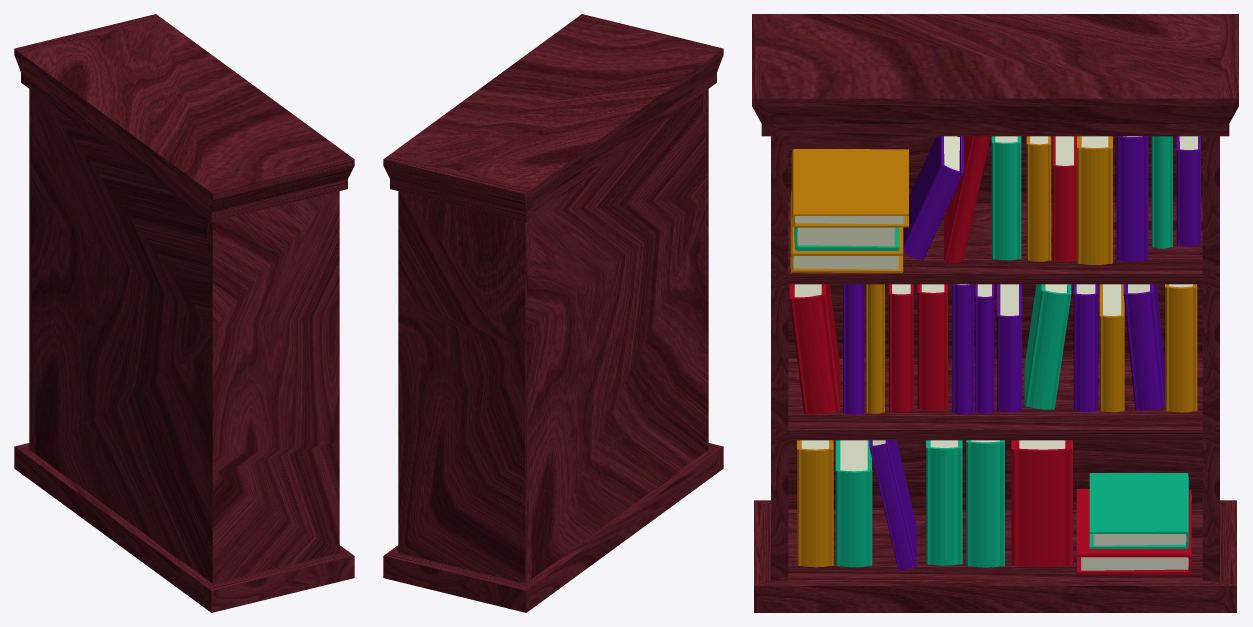
File: bookshelf.glb
The picture shows the model from 3 angles, left to right: view 1: azimuth 30°, elevation 25°; view 2: azimuth 150°, elevation 25°; view 3: azimuth 270°, elevation 25°; orthographic projection. The views are drawn at different scales.
Parts seen in each view (by area): view 1: shelf; view 2: shelf; view 3: shelf, level2, level1, level3.
Part boxes in pixels (x1,y1,x2,y2): shelf: (14,14,354,612); shelf: (383,14,723,612); shelf: (752,14,1238,612); level2: (789,284,1197,414); level1: (790,136,1200,272); level3: (797,440,1191,574).
Bounding box in the file's own units: 1.35 × 3.79 × 3.25.
Materials: 6 (1 with a texture image).
